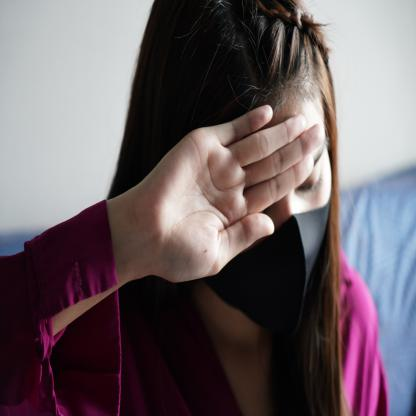Sick: (113, 104, 330, 284)
